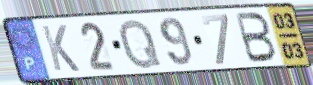2: (80, 20, 116, 72)
7: (200, 13, 231, 66)
9: (158, 16, 194, 68)
B: (234, 11, 279, 65)
K: (39, 24, 83, 74)
Q: (117, 17, 164, 72)
